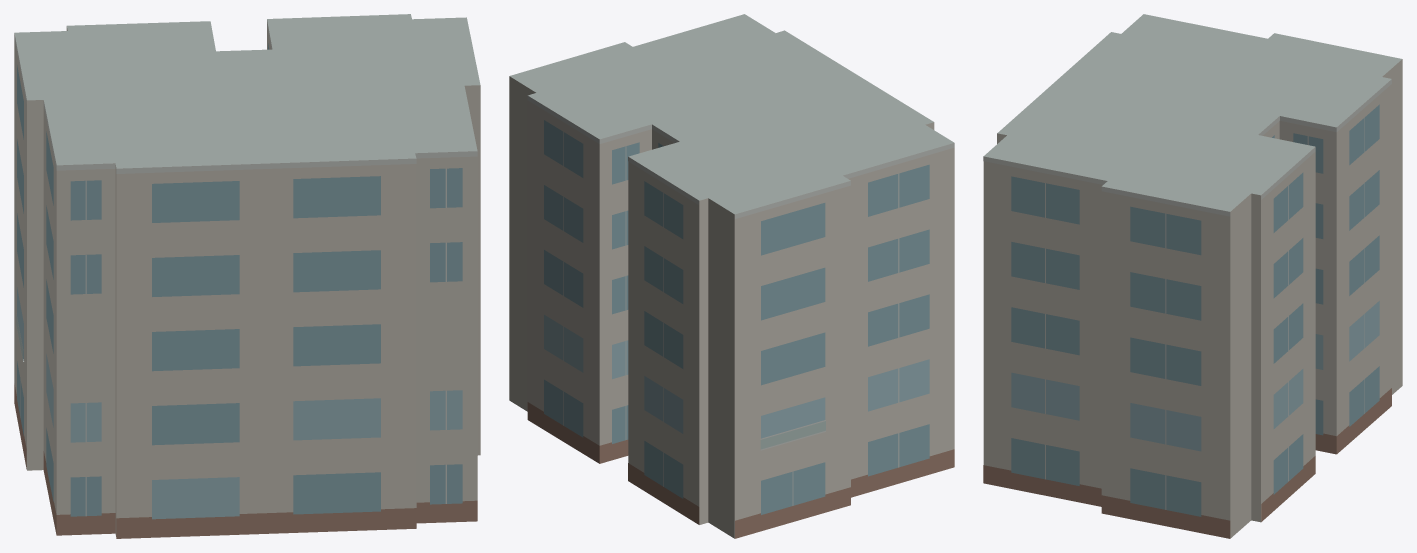
File: survey-upis-32708795.glb
3 views of the same model, side by side, from view 1: azimuth 30°, elevation 25°; view 2: azimuth 150°, elevation 25°; view 3: azimuth 270°, elevation 25° (orthographic). The views are drawn at different scales.
Visible parts, largest first — view 1: survey-upis-32708795.tmp; view 2: survey-upis-32708795.tmp; view 3: survey-upis-32708795.tmp.
Part boxes in pixels (x1,y1,x2,y2): survey-upis-32708795.tmp: (14, 14, 480, 538); survey-upis-32708795.tmp: (509, 14, 954, 538); survey-upis-32708795.tmp: (983, 14, 1402, 538).
Size of the model in its own units: 21.56 by 16.6 by 19.29.
